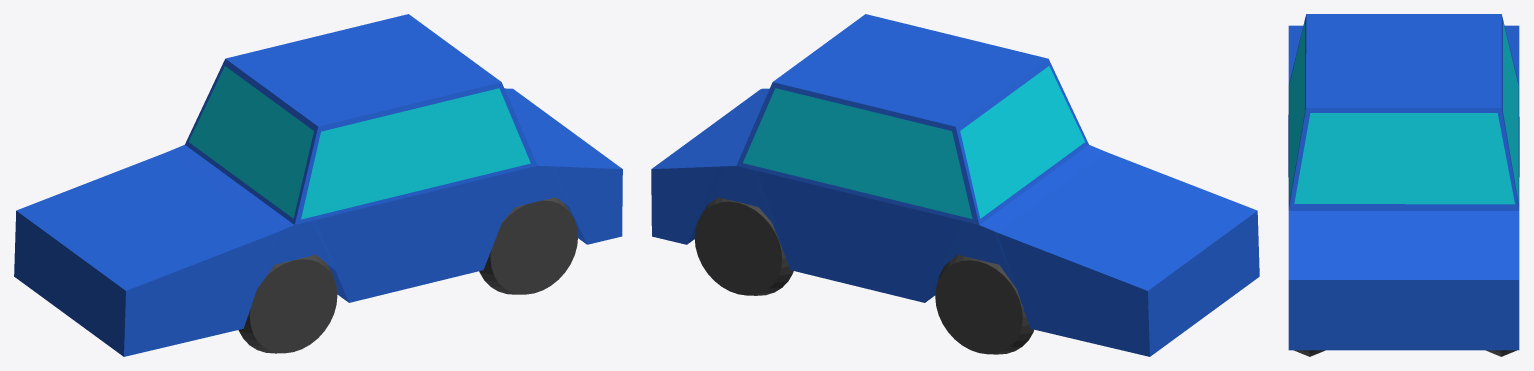
The model's file is Blue Car Animated.fbx.
3 renders of one model, left to right at view 1: azimuth 30°, elevation 25°; view 2: azimuth 150°, elevation 25°; view 3: azimuth 270°, elevation 25°, orthographic. The views are drawn at different scales.
Visible parts, largest first — view 1: Cylinder.002; view 2: Cylinder.002; view 3: Cylinder.002.
Boxes of the visible parts, box(x1,y1,x2,y2) form: Cylinder.002: box(14, 14, 622, 356); Cylinder.002: box(651, 14, 1259, 356); Cylinder.002: box(1288, 14, 1519, 356).
Bounding box in the file's own units: 3614 × 1516 × 1380.
